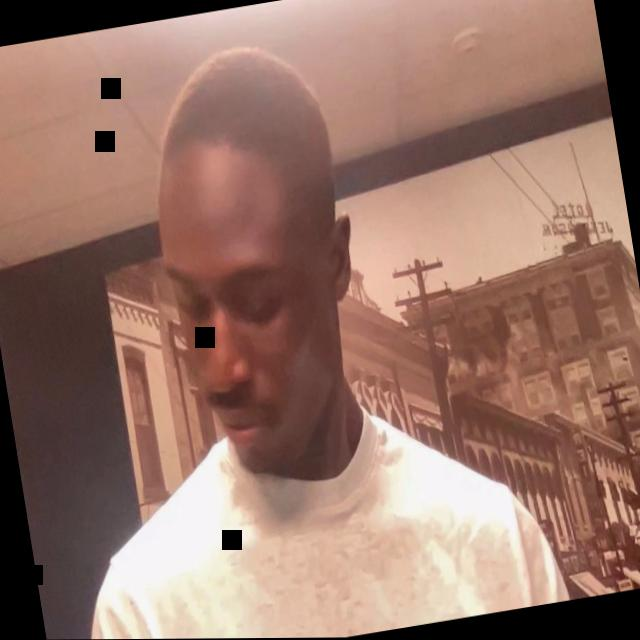NO-Mask: (150, 136, 388, 484)
